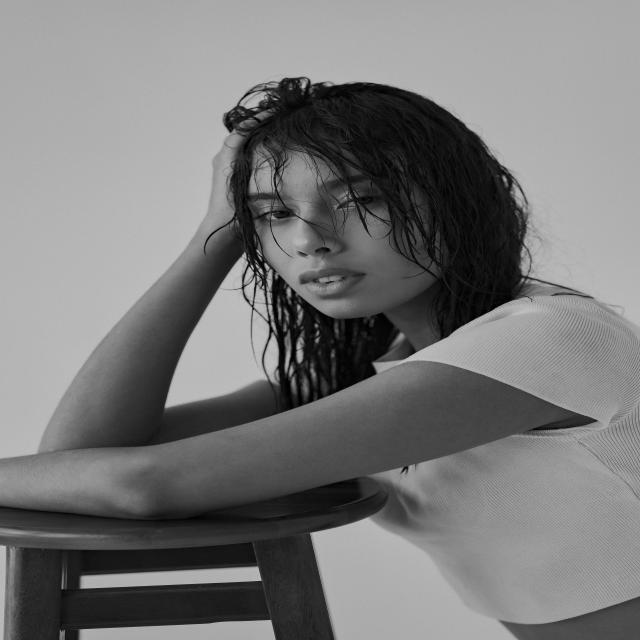human: (22, 67, 640, 640)
